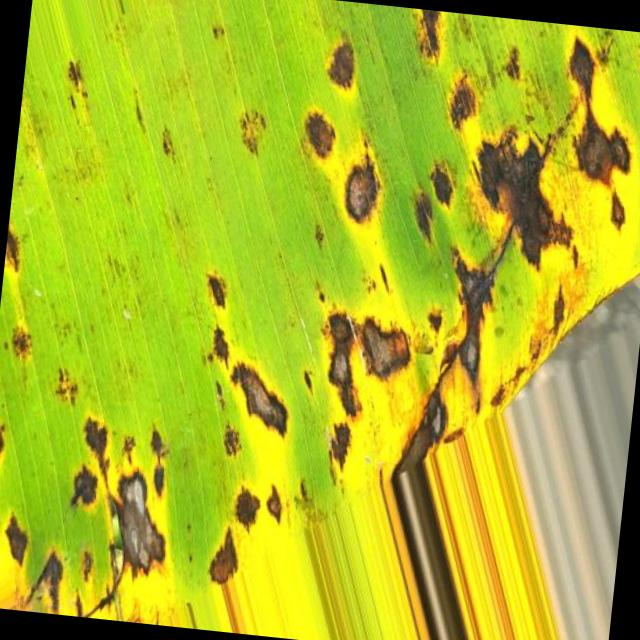Banana_Yellow_Sigatoka: (287, 3, 640, 396), (0, 357, 451, 636)
